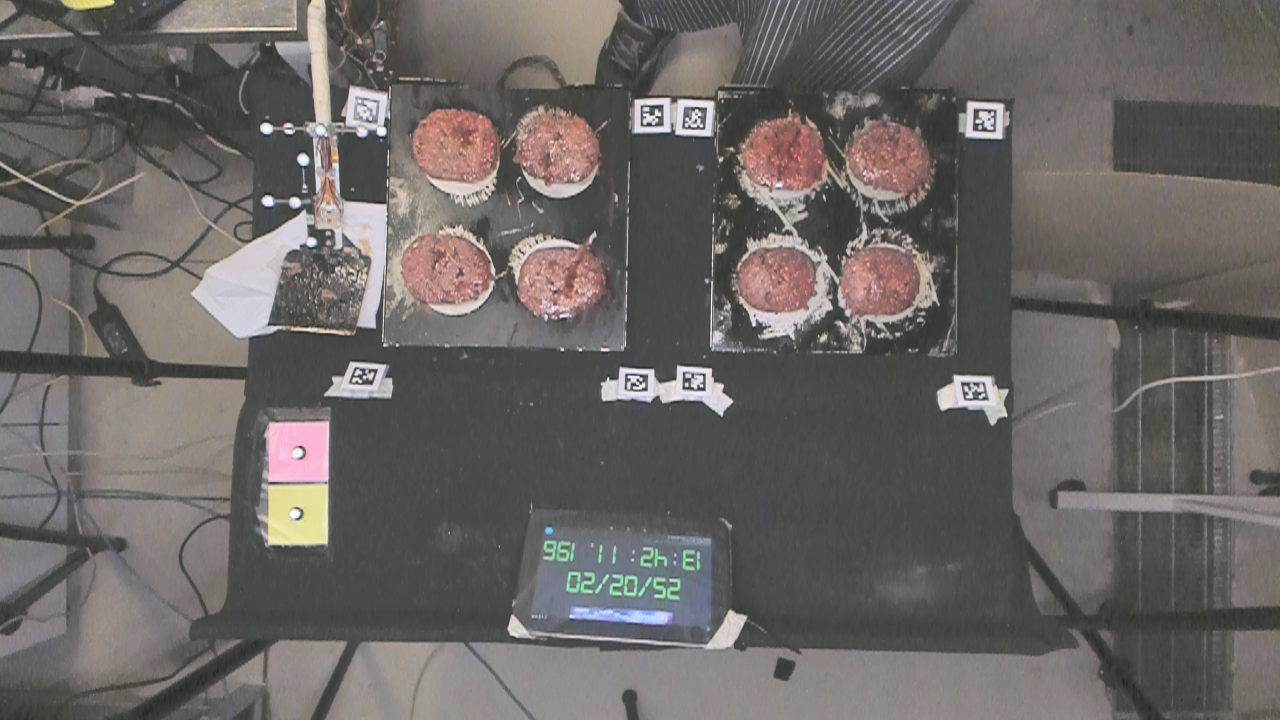hamburger: (853, 106, 933, 199), (524, 244, 606, 321), (398, 237, 492, 302), (746, 111, 824, 189), (411, 112, 496, 183), (734, 239, 815, 313), (840, 250, 921, 318), (524, 115, 598, 181)
marker: (266, 422, 330, 481)
